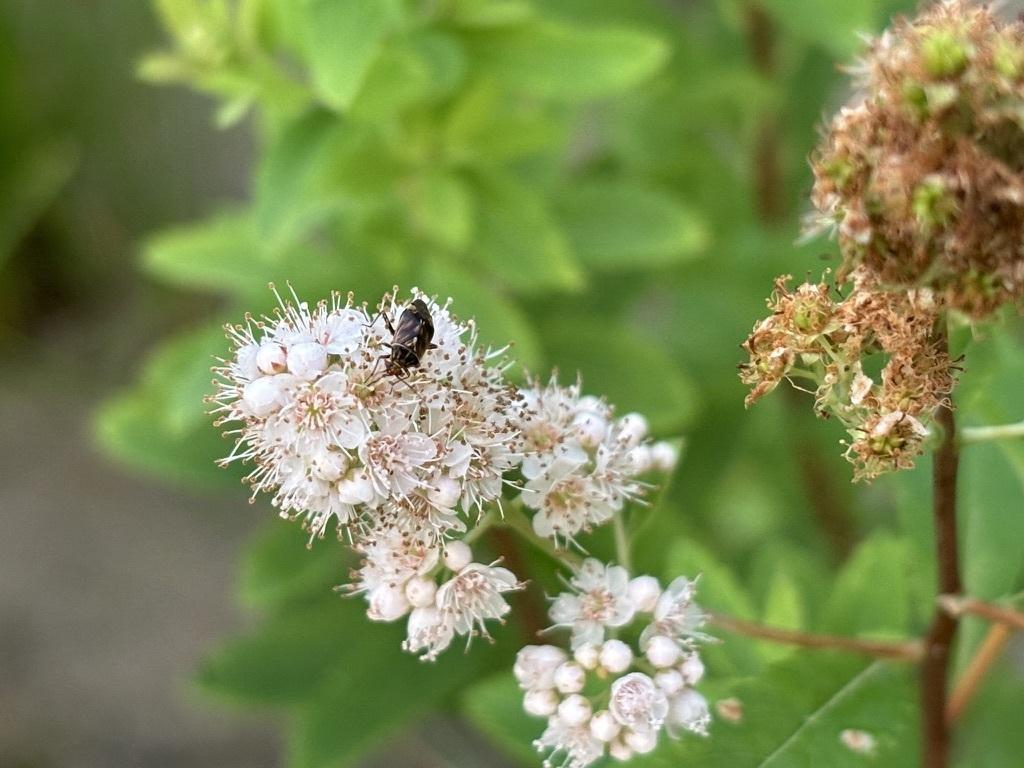plant_bugs: (339, 279, 458, 398)
